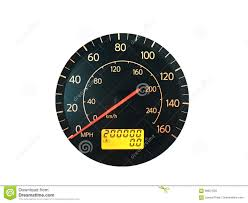Digital_Meter: (100, 128, 144, 149)
